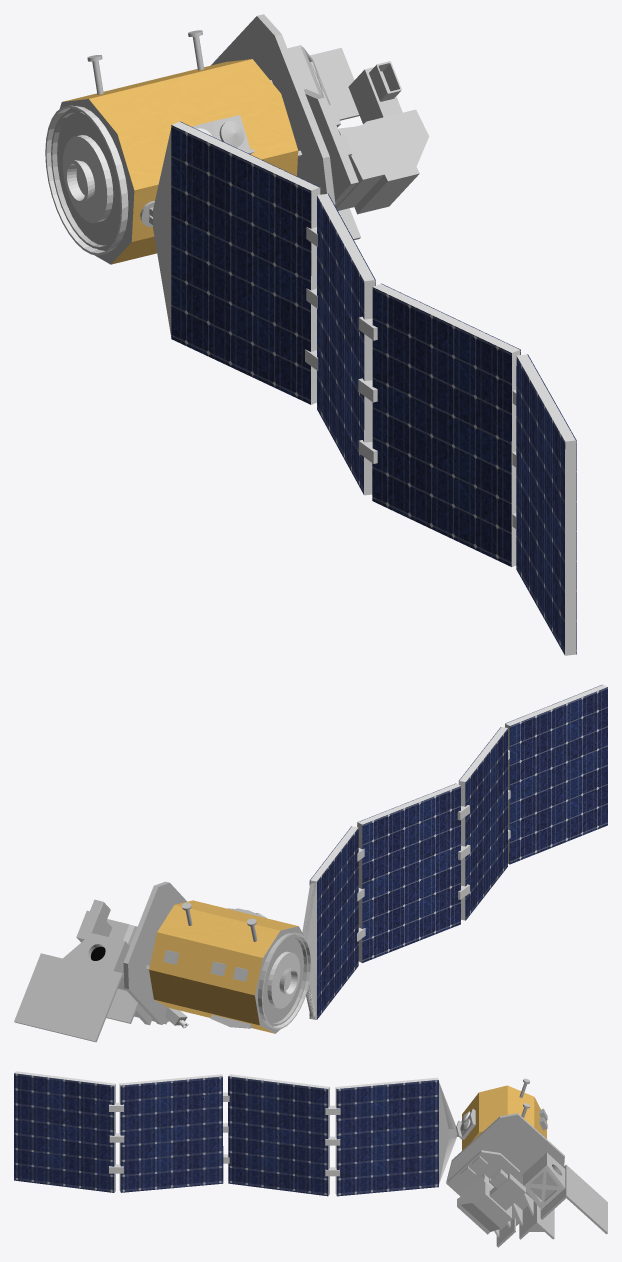
Rendered from sat_E_P.glb.
3 views of the same model, one above another, from view 1: azimuth 30°, elevation 25°; view 2: azimuth 150°, elevation 25°; view 3: azimuth 270°, elevation 25° (orthographic). The views are drawn at different scales.
Visible parts, largest first — view 1: Cube.009, Cylinder, Cube.017, Cube, Cylinder.011, Cylinder.009, Cube.007, Cube.020, Cube.006, Cube.039, Cube.018, Cylinder.008 (+2 smaller); view 2: Cube.009, Cylinder, Cube.005, Cube, Cube.016, Cube.007, Cylinder.011, Cylinder.009, Cube.039, Cube.003, Cube.018, Cylinder.008 (+1 smaller); view 3: Cube.009, Cube, Cylinder, Cube.017, Cube.005, Cube.020, Cube.016, Cube.007, Cube.039, Cube.018, Cube.008, Cube.002 (+4 smaller).
Part boxes in pixels (bbox=[...]): Cube.009: bbox=[171, 121, 576, 655]; Cylinder: bbox=[57, 59, 298, 264]; Cube.017: bbox=[336, 109, 429, 214]; Cube: bbox=[211, 14, 335, 204]; Cylinder.011: bbox=[62, 135, 113, 223]; Cylinder.009: bbox=[45, 105, 128, 255]; Cube.007: bbox=[153, 128, 171, 336]; Cube.020: bbox=[304, 89, 358, 206]; Cube.006: bbox=[309, 51, 359, 120]; Cube.039: bbox=[305, 227, 516, 529]; Cube.018: bbox=[348, 67, 402, 123]; Cylinder.008: bbox=[51, 110, 120, 249]; Cube.009: bbox=[309, 684, 607, 1019]; Cylinder: bbox=[149, 900, 309, 1033]; Cube.005: bbox=[14, 953, 123, 1042]; Cube: bbox=[123, 881, 186, 1024]; Cube.016: bbox=[63, 933, 129, 974]; Cube.007: bbox=[302, 882, 316, 1018]; Cylinder.011: bbox=[267, 951, 300, 1008]; Cylinder.009: bbox=[258, 932, 311, 1029]; Cube.039: bbox=[357, 750, 510, 941]; Cube.003: bbox=[106, 990, 138, 1023]; Cube.018: bbox=[76, 910, 111, 942]; Cylinder.008: bbox=[263, 936, 307, 1025]; Cube.009: bbox=[14, 1071, 438, 1196]; Cube: bbox=[446, 1113, 564, 1195]; Cylinder: bbox=[462, 1085, 546, 1150]; Cube.017: bbox=[457, 1175, 511, 1234]; Cube.005: bbox=[565, 1164, 607, 1234]; Cube.020: bbox=[448, 1150, 532, 1229]; Cube.016: bbox=[523, 1153, 565, 1209]; Cube.007: bbox=[439, 1082, 456, 1183]; Cube.039: bbox=[109, 1092, 340, 1176]; Cube.018: bbox=[489, 1173, 525, 1210]; Cube.008: bbox=[524, 1166, 563, 1208]; Cube.002: bbox=[519, 1201, 538, 1239].
Size of the model in its own units: 0.8859 by 0.5925 by 2.79.
Materials: 5 (2 with a texture image).
